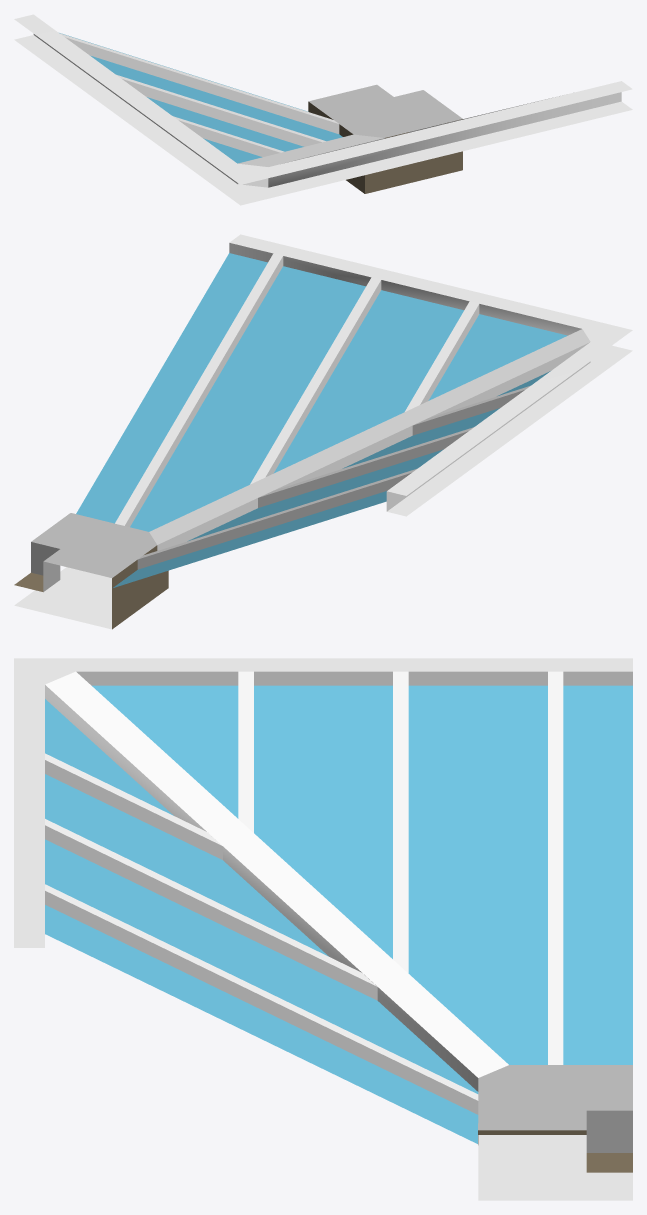
File: SM_Window_Roof_Turn_02.FBX
3 views of the same model, one above another, from view 1: azimuth 30°, elevation 25°; view 2: azimuth 150°, elevation 25°; view 3: azimuth 270°, elevation 25° (orthographic). The views are drawn at different scales.
Visible parts, largest first — view 1: SM_Window_Roof_Turn_02; view 2: SM_Window_Roof_Turn_02; view 3: SM_Window_Roof_Turn_02.
Part boxes in pixels (left/top/right/bottom): SM_Window_Roof_Turn_02: left=14, top=14, right=632, bottom=205; SM_Window_Roof_Turn_02: left=14, top=234, right=632, bottom=629; SM_Window_Roof_Turn_02: left=14, top=658, right=632, bottom=1200.
Size of the model in its own units: 400 by 400 by 200.
